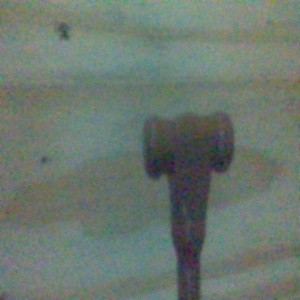palu: (142, 109, 235, 300)
